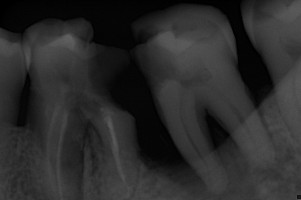Dental Caries: (140, 107, 257, 199), (253, 129, 301, 199)
Endo-Periodontal Lesion: (82, 120, 106, 179)
